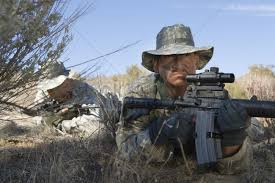gun: (122, 69, 275, 165)
